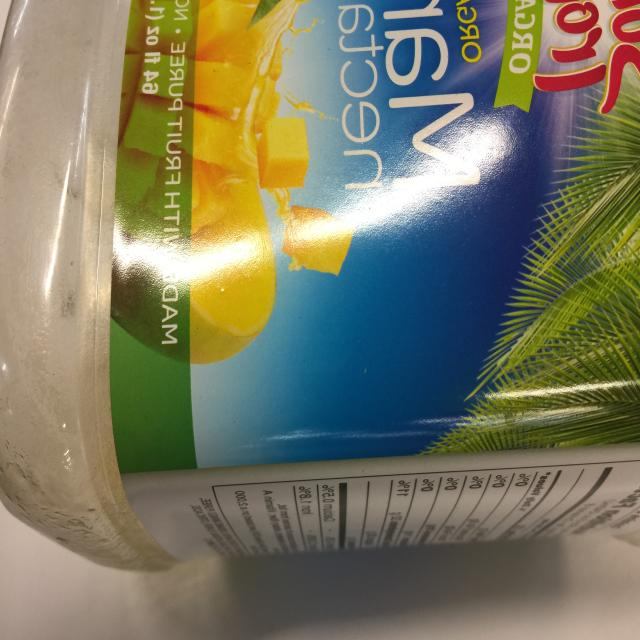plastic: (1, 0, 640, 572)
